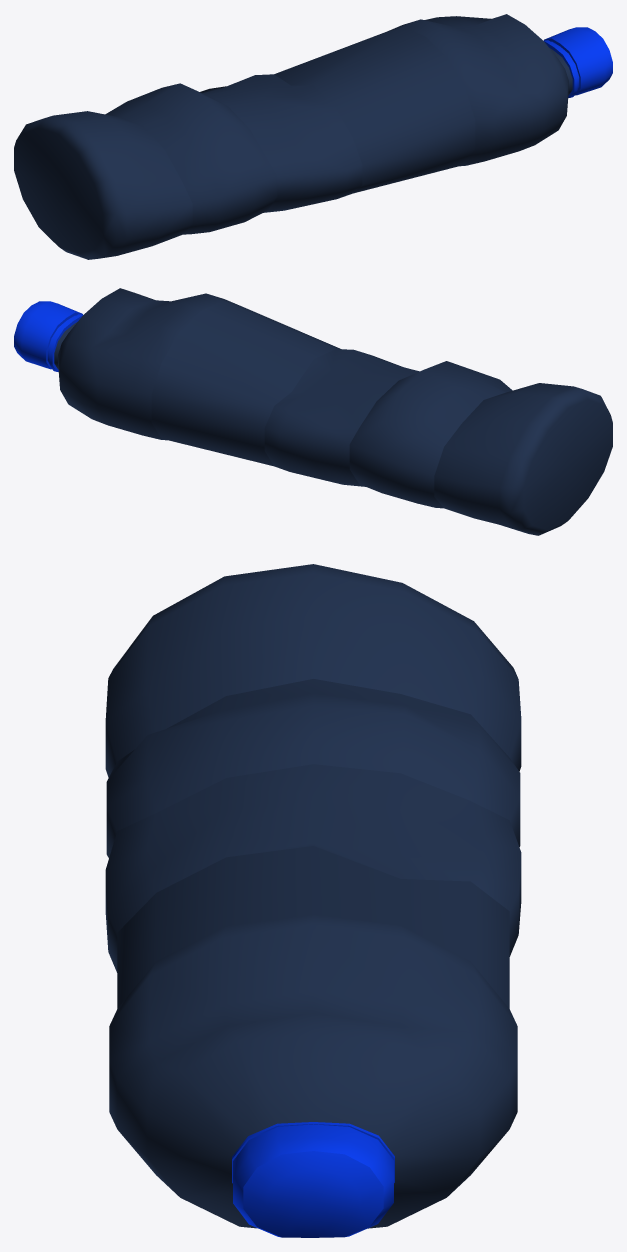
File: SM_MCGarbages_Mesh02.FBX
3 views of the same model, one above another, from view 1: azimuth 30°, elevation 25°; view 2: azimuth 150°, elevation 25°; view 3: azimuth 270°, elevation 25° (orthographic). The views are drawn at different scales.
Parts seen in each view (by area): view 1: SM_MCGarbages_Mesh02; view 2: SM_MCGarbages_Mesh02; view 3: SM_MCGarbages_Mesh02.
Part boxes in pixels (box(x1,y1,x2,y2)): SM_MCGarbages_Mesh02: box(14, 14, 612, 259); SM_MCGarbages_Mesh02: box(14, 288, 612, 535); SM_MCGarbages_Mesh02: box(105, 564, 521, 1237).
Size of what is drawn, in the model's own units: 36.73 by 12.22 by 8.48.
